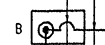Single Phase Tap-Off Unit: (29, 7, 89, 45)
